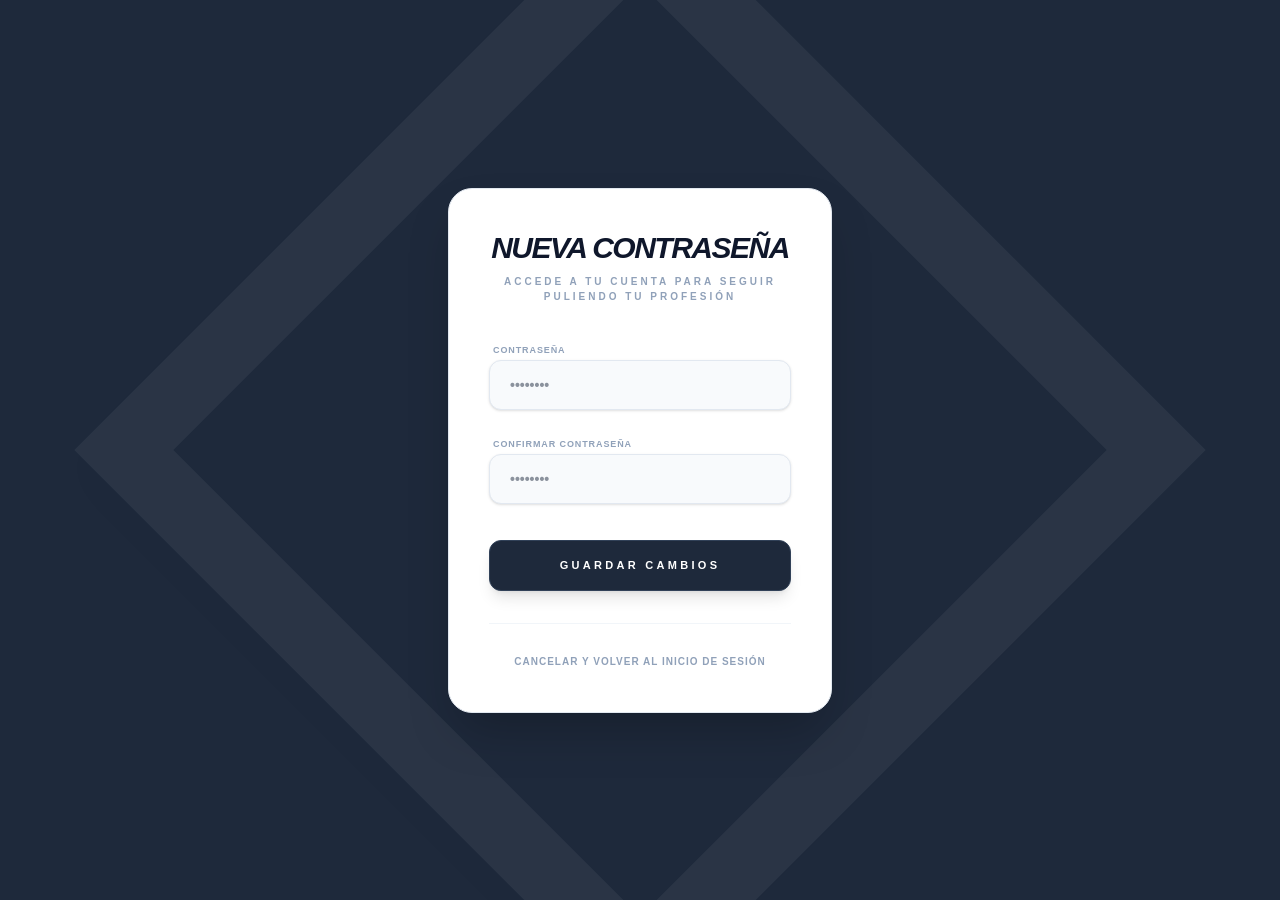
it: ResetPasswordPage › muestra error si la contraseña no cumple el formato requerido
Type "corta1" into the 1st password field with placeholder "••••••••".
click(640, 385); type("corta1")  # box [489, 360, 791, 410]
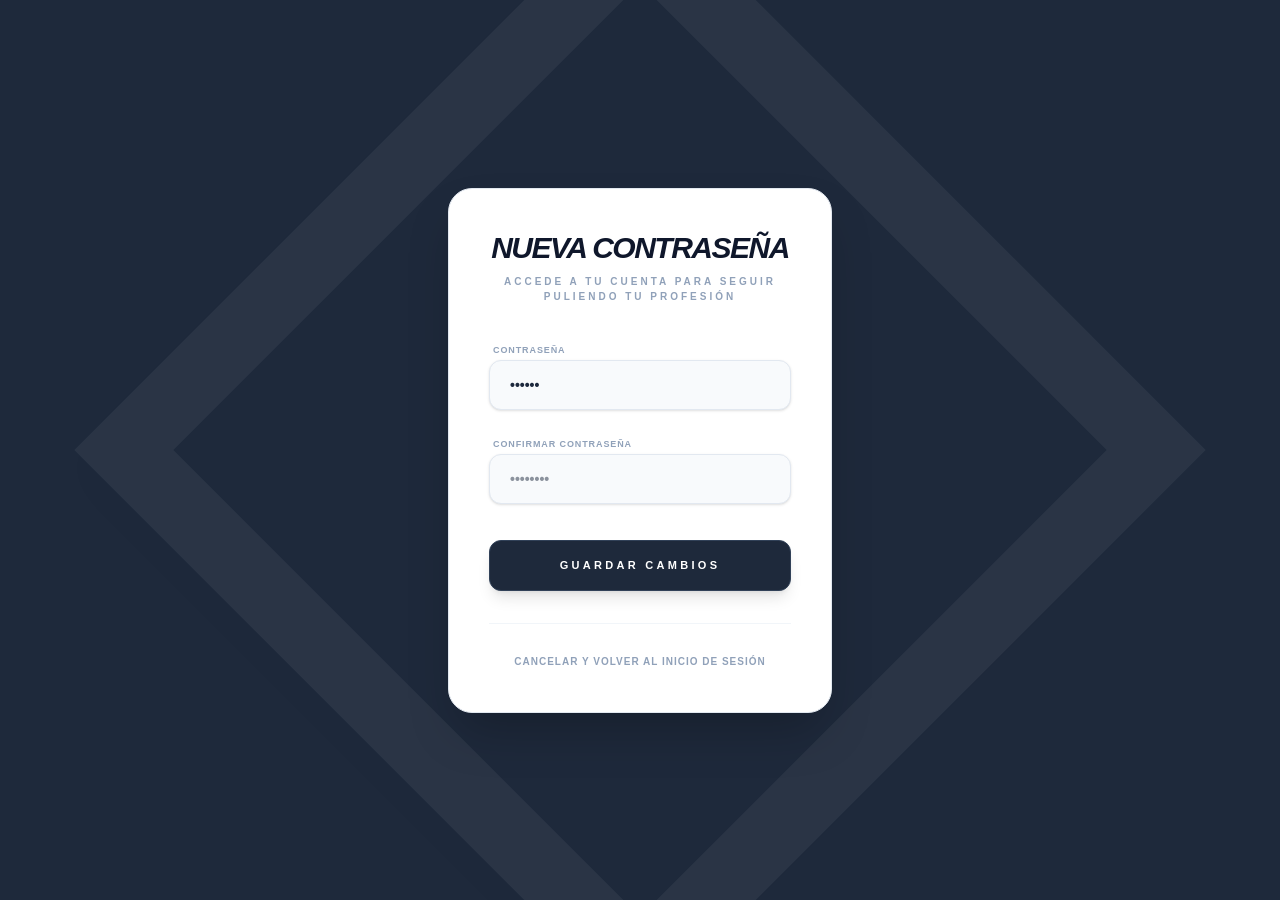
Type "corta1" into the password field with placeholder "••••••••".
click(640, 479); type("corta1")  # box [489, 454, 791, 504]
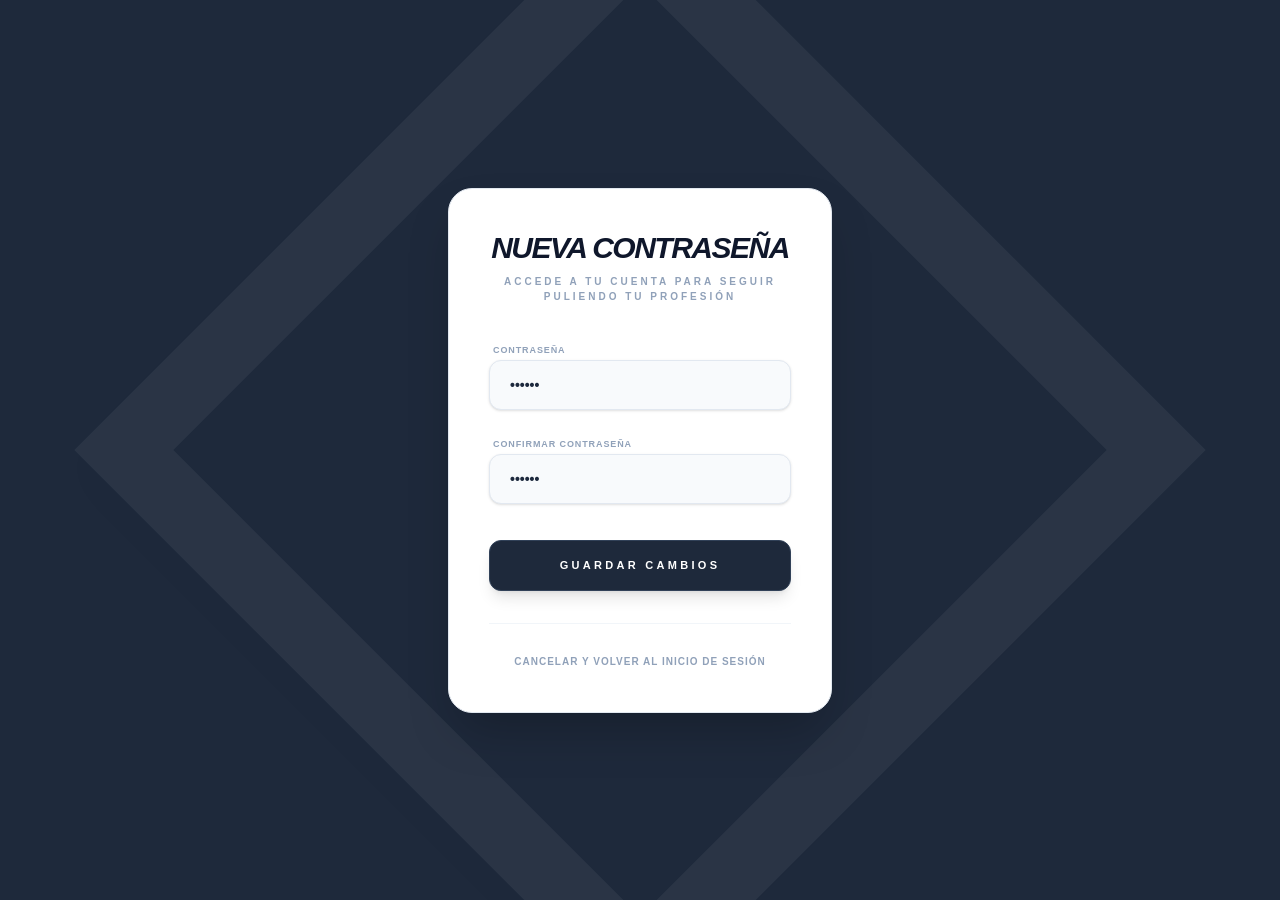
Click the button "Guardar Cambios".
click(640, 565)  # box [489, 540, 791, 590]
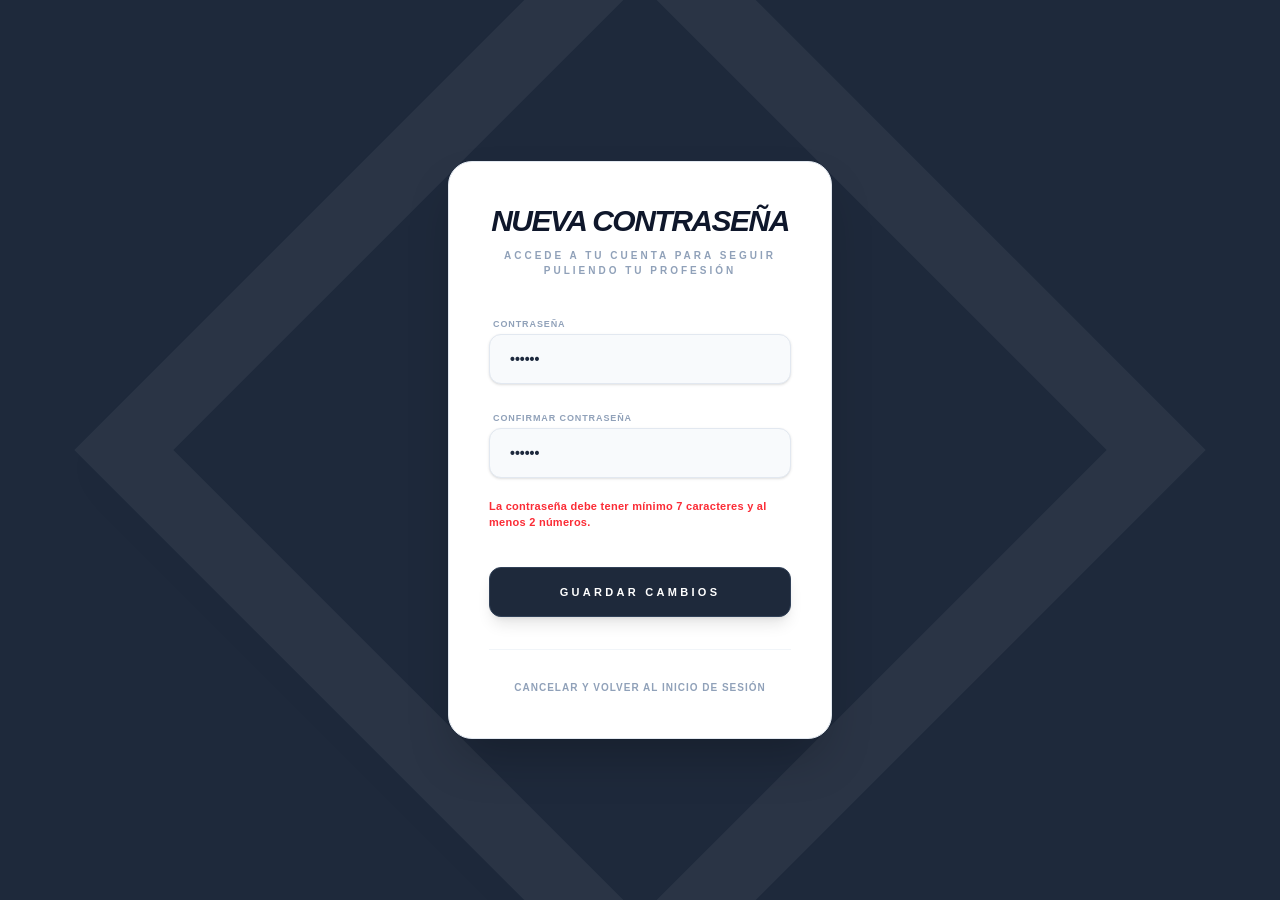
Check: the text "La contraseña debe tener mínimo 7 caracteres y al menos 2 números." is shown, box [489, 498, 791, 530]
